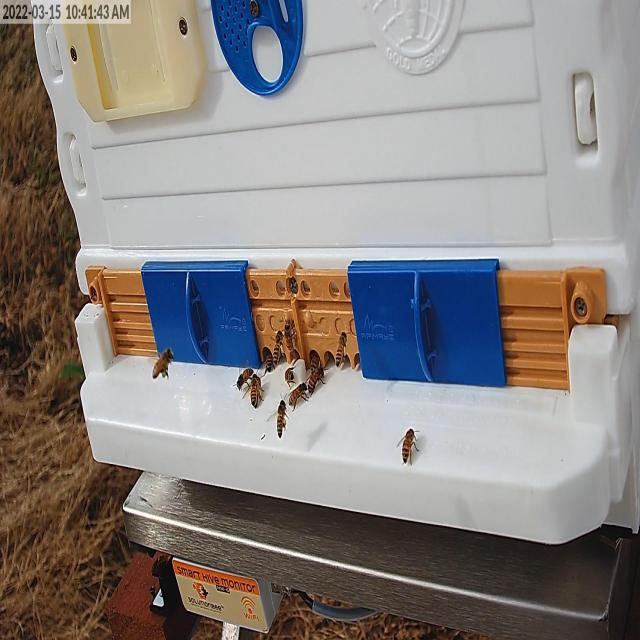honeybee: (398, 425, 422, 468), (151, 345, 174, 382), (268, 396, 288, 436), (244, 376, 264, 409), (289, 382, 308, 410), (306, 366, 325, 394), (335, 331, 350, 366), (234, 367, 254, 391), (283, 316, 296, 351), (272, 334, 284, 369), (283, 367, 300, 390), (310, 353, 324, 369), (263, 356, 277, 372)
